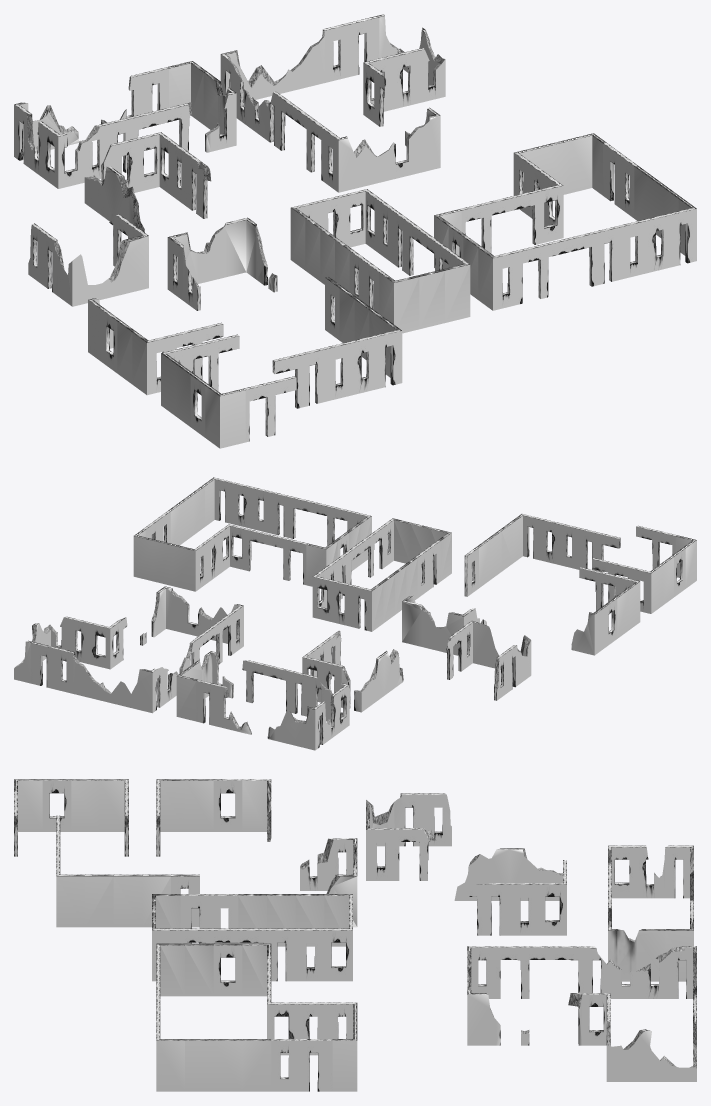
Rendered from walls.obj.
3 renders of one model, top to bottom at view 1: azimuth 30°, elevation 25°; view 2: azimuth 150°, elevation 25°; view 3: azimuth 270°, elevation 25°, orthographic. The views are drawn at different scales.
Visible parts, largest first — view 1: destroyedWalls_UV1.026, destroyedWalls_UV1.012, destroyedWalls_UV1.032_destroyedWalls_UV1.037, destroyedWalls_UV1.037_destroyedWalls_UV1.043, destroyedWalls_UV1.038_destroyedWalls_UV1.044, destroyedWalls_UV1.002, destroyedWalls_UV1.031_destroyedWalls_UV1.035, destroyedWalls_UV1.040_destroyedWalls_UV1.046, destroyedWalls_UV1.061_destroyedWalls_UV1.000, destroyedWalls_UV1.007, destroyedWalls_UV1.027_destroyedWalls_UV1.032, destroyedWalls_UV1.014 (+29 smaller); view 2: destroyedWalls_UV1.026, destroyedWalls_UV1.038_destroyedWalls_UV1.044, destroyedWalls_UV1.032_destroyedWalls_UV1.037, destroyedWalls_UV1.037_destroyedWalls_UV1.043, destroyedWalls_UV1.011_destroyedWalls_UV1.036, destroyedWalls_UV1.008, destroyedWalls_UV1.002, destroyedWalls_UV1.024, destroyedWalls_UV1.012, destroyedWalls_UV1.039_destroyedWalls_UV1.045, destroyedWalls_UV1.061_destroyedWalls_UV1.000, destroyedWalls_UV1.007 (+30 smaller); view 3: destroyedWalls_UV1.002, destroyedWalls_UV1.038_destroyedWalls_UV1.044, destroyedWalls_UV1.008, destroyedWalls_UV1.033_destroyedWalls_UV1.038, destroyedWalls_UV1.061_destroyedWalls_UV1.000, destroyedWalls_UV1.007, destroyedWalls_UV1.010, destroyedWalls_UV1.003, destroyedWalls_UV1.001, destroyedWalls_UV1.005, destroyedWalls_UV1.006, destroyedWalls_UV1.030_destroyedWalls_UV1.031 (+11 smaller).
Boxes of the visible parts, bbox=[...] form: destroyedWalls_UV1.026: bbox=[221, 14, 399, 102]; destroyedWalls_UV1.012: bbox=[167, 217, 267, 310]; destroyedWalls_UV1.032_destroyedWalls_UV1.037: bbox=[589, 208, 696, 286]; destroyedWalls_UV1.037_destroyedWalls_UV1.043: bbox=[295, 330, 402, 408]; destroyedWalls_UV1.038_destroyedWalls_UV1.044: bbox=[290, 207, 394, 324]; destroyedWalls_UV1.002: bbox=[592, 133, 696, 255]; destroyedWalls_UV1.031_destroyedWalls_UV1.035: bbox=[338, 115, 440, 192]; destroyedWalls_UV1.040_destroyedWalls_UV1.046: bbox=[394, 264, 470, 333]; destroyedWalls_UV1.061_destroyedWalls_UV1.000: bbox=[88, 299, 148, 394]; destroyedWalls_UV1.007: bbox=[161, 353, 221, 448]; destroyedWalls_UV1.027_destroyedWalls_UV1.032: bbox=[364, 48, 445, 111]; destroyedWalls_UV1.014: bbox=[72, 235, 148, 306]; destroyedWalls_UV1.026: bbox=[14, 640, 152, 713]; destroyedWalls_UV1.038_destroyedWalls_UV1.044: bbox=[371, 532, 451, 631]; destroyedWalls_UV1.032_destroyedWalls_UV1.037: bbox=[214, 477, 295, 538]; destroyedWalls_UV1.037_destroyedWalls_UV1.043: bbox=[522, 514, 603, 572]; destroyedWalls_UV1.011_destroyedWalls_UV1.036: bbox=[133, 535, 195, 591]; destroyedWalls_UV1.008: bbox=[464, 514, 522, 596]; destroyedWalls_UV1.002: bbox=[134, 477, 214, 545]; destroyedWalls_UV1.024: bbox=[176, 675, 251, 734]; destroyedWalls_UV1.012: bbox=[402, 595, 486, 655]; destroyedWalls_UV1.039_destroyedWalls_UV1.045: bbox=[312, 576, 371, 631]; destroyedWalls_UV1.061_destroyedWalls_UV1.000: bbox=[593, 581, 640, 654]; destroyedWalls_UV1.007: bbox=[650, 540, 696, 613]; destroyedWalls_UV1.002: bbox=[156, 1039, 357, 1091]; destroyedWalls_UV1.038_destroyedWalls_UV1.044: bbox=[152, 894, 352, 946]; destroyedWalls_UV1.008: bbox=[56, 874, 199, 927]; destroyedWalls_UV1.033_destroyedWalls_UV1.038: bbox=[157, 943, 270, 996]; destroyedWalls_UV1.061_destroyedWalls_UV1.000: bbox=[157, 779, 270, 831]; destroyedWalls_UV1.007: bbox=[15, 779, 127, 831]; destroyedWalls_UV1.010: bbox=[469, 883, 566, 935]; destroyedWalls_UV1.003: bbox=[578, 946, 695, 998]; destroyedWalls_UV1.001: bbox=[263, 928, 352, 981]; destroyedWalls_UV1.005: bbox=[608, 845, 693, 898]; destroyedWalls_UV1.006: bbox=[608, 929, 693, 981]; destroyedWalls_UV1.030_destroyedWalls_UV1.031: bbox=[606, 1029, 696, 1081].
Size of the model in its own units: 80 by 7.5 by 88.32.
Materials: 1 (1 with a texture image).
